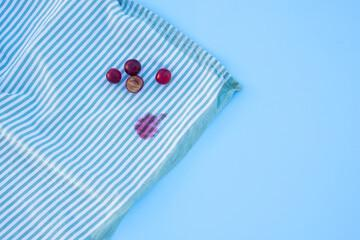gun: (135, 112, 166, 139)
